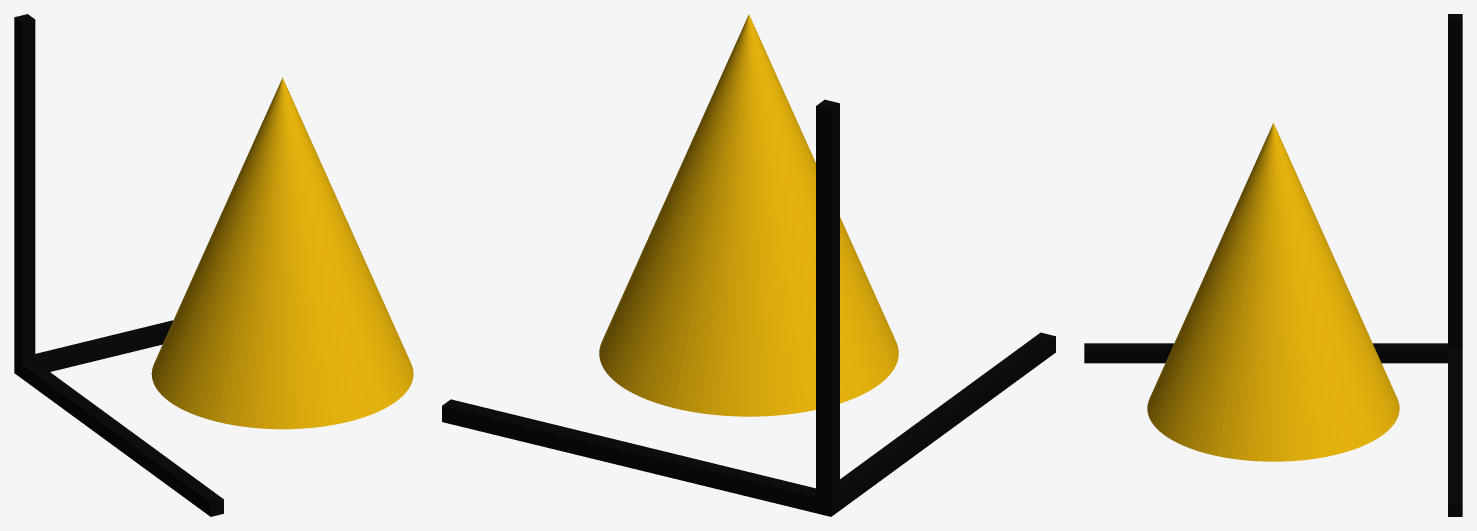
File: cono.fbx
3 renders of one model, left to right at view 1: azimuth 30°, elevation 25°; view 2: azimuth 150°, elevation 25°; view 3: azimuth 270°, elevation 25°, orthographic. The views are drawn at different scales.
Visible parts, largest first — view 1: Mesh_1.004, Mesh_0.007; view 2: Mesh_1.004, Mesh_0.007; view 3: Mesh_1.004, Mesh_0.007.
Part boxes in pixels (x1,y1,x2,y2): Mesh_1.004: (151,77,413,429); Mesh_0.007: (14,14,223,516); Mesh_1.004: (599,14,898,416); Mesh_0.007: (442,99,1055,516); Mesh_1.004: (1147,123,1399,461); Mesh_0.007: (1084,14,1462,516).
Bounding box in the file's own units: 6 × 6 × 6.
